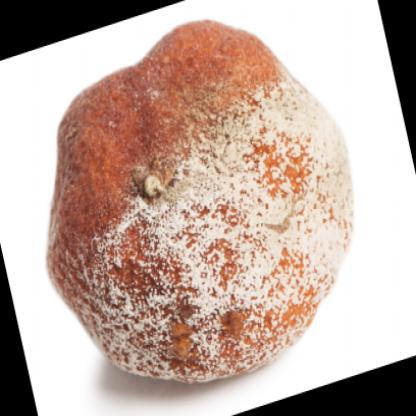rotten_orange: (43, 18, 358, 394)
